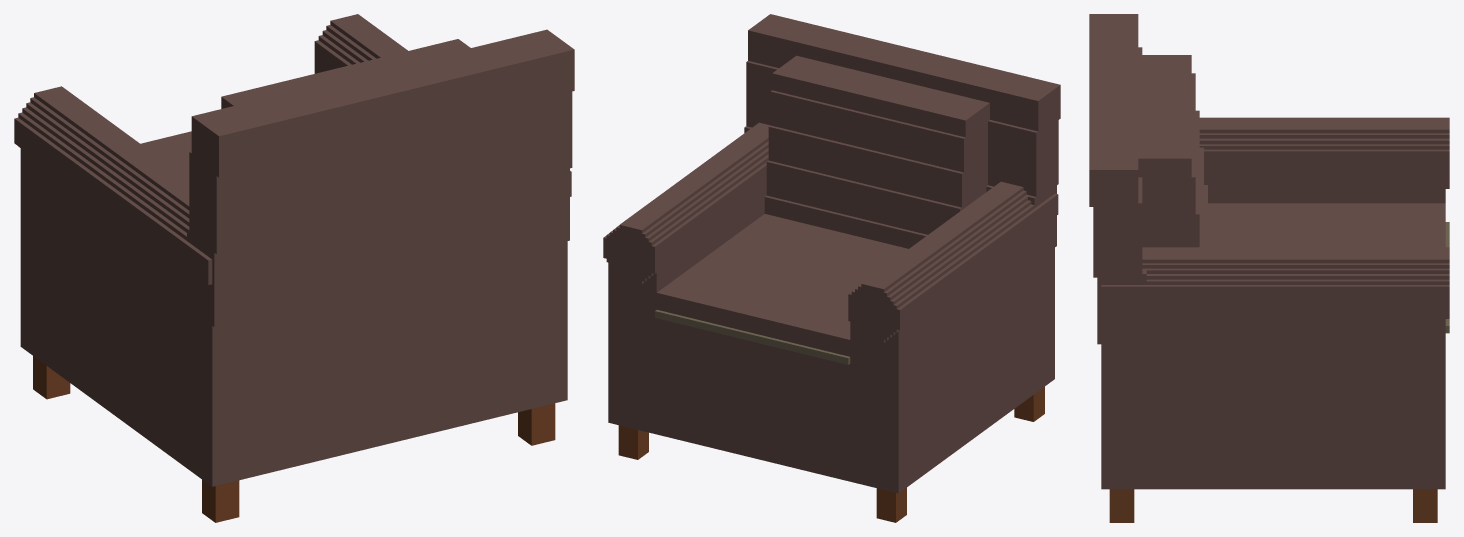
Rendered from armchair.glb.
3 views of the same model, side by side, from view 1: azimuth 30°, elevation 25°; view 2: azimuth 150°, elevation 25°; view 3: azimuth 270°, elevation 25° (orthographic). The views are drawn at different scales.
Parts seen in each view (by area): view 1: armchair:compound; view 2: armchair:compound; view 3: armchair:compound.
Boxes of the visible parts, bbox=[...] form: armchair:compound: bbox=[14, 14, 574, 522]; armchair:compound: bbox=[603, 14, 1060, 522]; armchair:compound: bbox=[1089, 14, 1449, 522].
Size of the model in its own units: 0.92 by 0.96 by 0.88.
